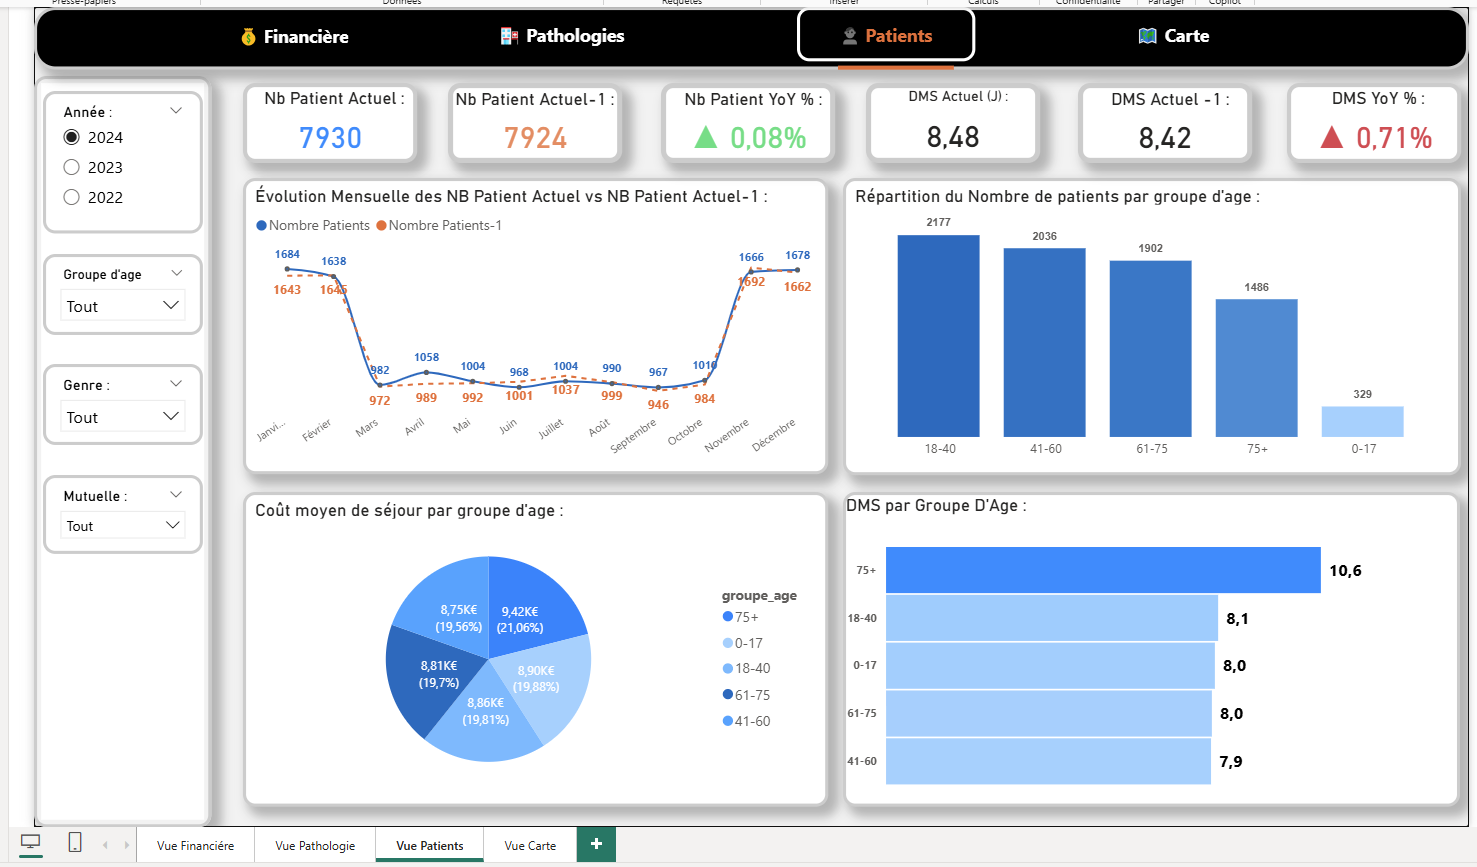

The dashboard page shown, as its layout file describes it:
{"tool":"powerbi","page":{"name":"Vue Patients","canvas":[1400,800],"ordinal":2},"visuals":[{"type":"shape","box":[0,67.4,173.3,732.6],"z":0},{"type":"slicer","fields":{"Values":["dim_temps.annee"]},"box":[9,82,156,139],"z":1000},{"type":"slicer","title":"Groupe d''age","fields":{"Values":["dim_patients.groupe_age"]},"box":[9,241,156,79],"z":2000},{"type":"textbox","box":[0,0,1400,61],"z":3000},{"type":"slicer","fields":{"Values":["dim_patients.genre"]},"box":[9,348,156,79],"z":4000},{"type":"slicer","fields":{"Values":["dim_patients.mutuelle"]},"box":[9,457,156,77],"z":5000},{"type":"card","title":"Nb Patient Actuel : ","fields":{"Values":["Mesures.Nombre Patients"]},"box":[204.3,73.8,170.1,78.1],"z":6000},{"type":"card","title":"Nb Patient Actuel-1 : ::","fields":{"Values":["Mesures.Nombre Patients-1"]},"box":[404.3,73.8,170.1,78.1],"z":7000},{"type":"card","title":"DMS Actuel (J) : ","fields":{"Values":["Mesures.Durée moyenne séjour"]},"box":[811.8,73.8,170.1,78.1],"z":8000},{"type":"lineChart","title":"Évolution Mensuelle des NB Patient Actuel vs NB Patient Actuel-1 : ","fields":{"Y":["Mesures.Nombre Patients","Mesures.Nombre Patients-1"],"Category":["dim_temps.mois_libelle"]},"box":[204.3,166.8,571.1,288.8],"z":9000},{"type":"pieChart","title":"Coût moyen de séjour par groupe d''age :","fields":{"Y":["Mesures.Coût Moyen Séjour"],"Category":["dim_patients.groupe_age"]},"box":[204.2,473.4,571,307.4],"z":10000},{"type":"clusteredColumnChart","title":"Répartition du Nombre de patients par groupe d''age :","fields":{"Y":["Mesures.Nombre Patients"],"Category":["dim_patients.groupe_age"]},"box":[789.3,166.8,603.2,289.8],"z":11000},{"type":"barChart","title":"DMS par Groupe D''Age :","fields":{"Category":["dim_patients.groupe_age"],"Y":["Mesures.Durée moyenne séjour Actuel"]},"box":[789.7,473.4,602.4,307.4],"z":12000},{"type":"actionButton","box":[173.7,1,159,53.7],"z":13000},{"type":"actionButton","box":[1049.8,0,122,52.7],"z":14000},{"type":"actionButton","box":[437.1,0,154.1,52.7],"z":15000},{"type":"actionButton","box":[744.4,0,173.7,52.7],"z":16000},{"type":"shape","box":[784,53,113,13],"z":17000},{"type":"card","title":"Nb Patient YoY % :","fields":{"Values":["Mesures.Evolution YoY Patients %"]},"box":[611.8,73.8,170.1,78.1],"z":18000},{"type":"card","title":"DMS Actuel -1 : ","fields":{"Values":["Mesures.Durée moyenne de séjour Actuel-1"]},"box":[1018.2,73.8,170.1,78.1],"z":19000},{"type":"card","title":"DMS YoY % :","fields":{"Values":["Mesures.Evolution YoY DMS %"]},"box":[1222.5,73.8,170.1,78.1],"z":20000}]}

Visuals, with their boxes on the page's 1400x800 design canvas (x1, y1, x2, y2). These are canvas units, not pixel positions in the 1477x867 screenshot, which may show the page scaled, cropped or inside an application window:
shape: bbox=(0, 67, 173, 800)
slicer - dim_temps.annee: bbox=(9, 82, 165, 221)
"Groupe d''age" slicer: bbox=(9, 241, 165, 320)
textbox: bbox=(0, 0, 1400, 61)
slicer - dim_patients.genre: bbox=(9, 348, 165, 427)
slicer - dim_patients.mutuelle: bbox=(9, 457, 165, 534)
"Nb Patient Actuel : " card: bbox=(204, 74, 374, 152)
"Nb Patient Actuel-1 : ::" card: bbox=(404, 74, 574, 152)
"DMS Actuel (J) : " card: bbox=(812, 74, 982, 152)
"Évolution Mensuelle des NB Patient Actuel vs NB Patient Actuel-1 : " lineChart: bbox=(204, 167, 775, 456)
"Coût moyen de séjour par groupe d''age :" pieChart: bbox=(204, 473, 775, 781)
"Répartition du Nombre de patients par groupe d''age :" clusteredColumnChart: bbox=(789, 167, 1392, 457)
"DMS par Groupe D''Age :" barChart: bbox=(790, 473, 1392, 781)
actionButton: bbox=(174, 1, 333, 55)
actionButton: bbox=(1050, 0, 1172, 53)
actionButton: bbox=(437, 0, 591, 53)
actionButton: bbox=(744, 0, 918, 53)
shape: bbox=(784, 53, 897, 66)
"Nb Patient YoY % :" card: bbox=(612, 74, 782, 152)
"DMS Actuel -1 : " card: bbox=(1018, 74, 1188, 152)
"DMS YoY % :" card: bbox=(1222, 74, 1393, 152)
